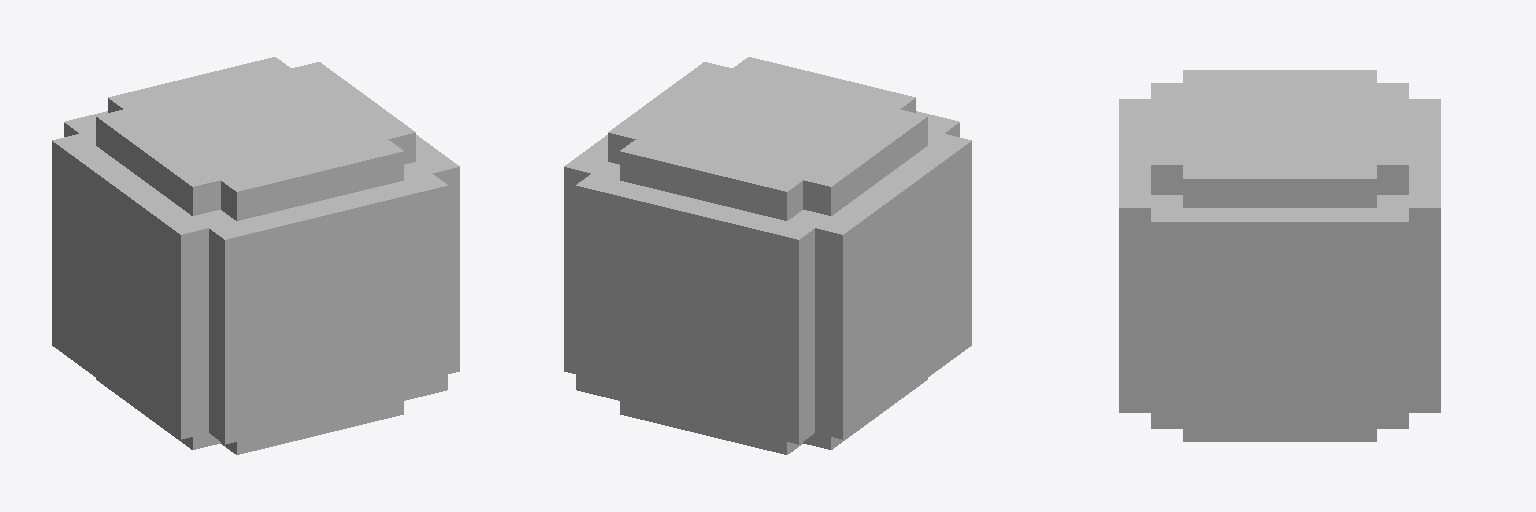
Rendered from Orange.obj.
3 views of the same model, side by side, from view 1: azimuth 30°, elevation 25°; view 2: azimuth 150°, elevation 25°; view 3: azimuth 270°, elevation 25° (orthographic).
Visible parts, largest first — view 1: object 1; view 2: object 1; view 3: object 1.
Boxes of the visible parts, box(x1,y1,x2,y2) form: object 1: box(52, 57, 459, 454); object 1: box(564, 57, 971, 454); object 1: box(1119, 70, 1440, 441).
Size of the model in its own units: 1 by 0.9 by 1.